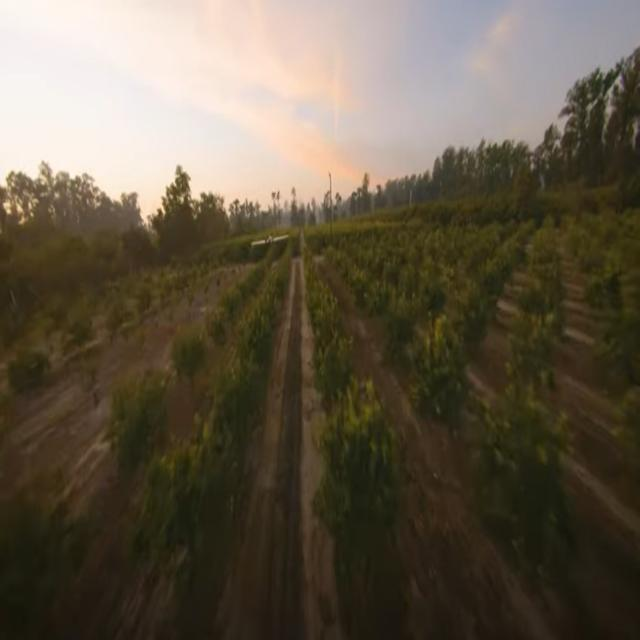iha: (250, 234, 289, 246)
